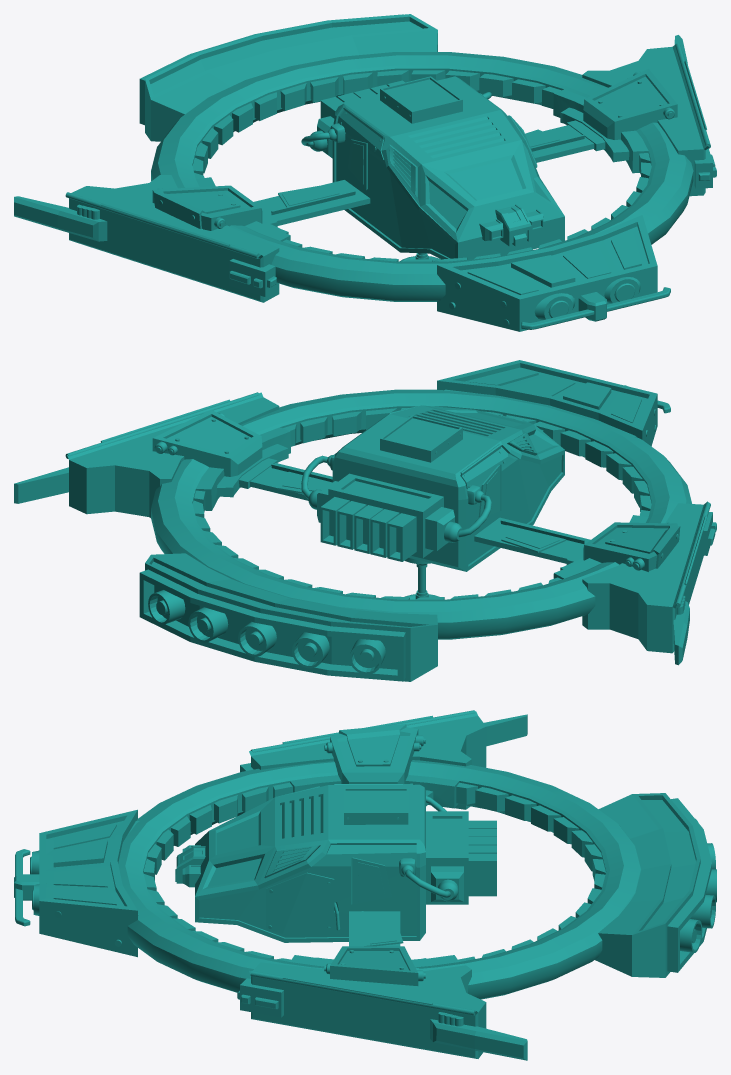
Rendered from 3D_ship_scavenger_object_ok_001.fbx.
3 views of the same model, one above another, from view 1: azimuth 30°, elevation 25°; view 2: azimuth 150°, elevation 25°; view 3: azimuth 270°, elevation 25° (orthographic).
Visible parts, largest first — view 1: polySurface72, polySurface1, polySurface31, polySurface77, polySurface73, polySurface24, Core_Ok_pCube88, polySurface30, polySurface55, polySurface76, polySurface28, polySurface26 (+2 smaller); view 2: polySurface72, polySurface1, polySurface73, polySurface24, polySurface31, polySurface77, Core_Ok_pCube88, polySurface74, polySurface65, polySurface23, polySurface28, polySurface62 (+4 smaller); view 3: polySurface72, polySurface1, polySurface24, polySurface73, polySurface77, polySurface31, Core_Ok_pCube88, polySurface23, polySurface65, polySurface74, polySurface25, polySurface76 (+4 smaller).
Part boxes in pixels (x1=…): polySurface72: x1=196, y1=76, x2=648, y2=259; polySurface1: x1=151, y1=52, x2=693, y2=301; polySurface31: x1=65, y1=175, x2=279, y2=302; polySurface77: x1=437, y1=215, x2=657, y2=331; polySurface73: x1=139, y1=14, x2=437, y2=141; polySurface24: x1=582, y1=43, x2=716, y2=196; Core_Ok_pCube88: x1=192, y1=70, x2=651, y2=261; polySurface30: x1=14, y1=196, x2=107, y2=241; polySurface55: x1=479, y1=204, x2=543, y2=246; polySurface76: x1=521, y1=287, x2=670, y2=329; polySurface28: x1=278, y1=185, x2=343, y2=207; polySurface26: x1=347, y1=139, x2=367, y2=188; polySurface72: x1=196, y1=405, x2=648, y2=579; polySurface1: x1=151, y1=389, x2=691, y2=639; polySurface73: x1=139, y1=553, x2=437, y2=681; polySurface24: x1=65, y1=392, x2=279, y2=517; polySurface31: x1=582, y1=501, x2=716, y2=653; polySurface77: x1=437, y1=360, x2=657, y2=446; Core_Ok_pCube88: x1=192, y1=408, x2=651, y2=599; polySurface74: x1=148, y1=590, x2=385, y2=674; polySurface65: x1=320, y1=497, x2=416, y2=561; polySurface23: x1=14, y1=467, x2=68, y2=503; polySurface28: x1=501, y1=525, x2=566, y2=552; polySurface62: x1=444, y1=485, x2=491, y2=542; polySurface72: x1=195, y1=775, x2=468, y2=967; polySurface1: x1=118, y1=760, x2=641, y2=999; polySurface24: x1=237, y1=946, x2=486, y2=1058; polySurface73: x1=595, y1=793, x2=711, y2=977; polySurface77: x1=30, y1=809, x2=139, y2=957; polySurface31: x1=240, y1=710, x2=486, y2=809; Core_Ok_pCube88: x1=143, y1=782, x2=605, y2=961; polySurface23: x1=430, y1=1019, x2=527, y2=1060; polySurface65: x1=468, y1=820, x2=496, y2=896; polySurface74: x1=680, y1=818, x2=716, y2=952; polySurface25: x1=352, y1=857, x2=391, y2=903; polySurface76: x1=14, y1=849, x2=39, y2=926.
Size of the model in its own units: 1104 by 316 by 998.
